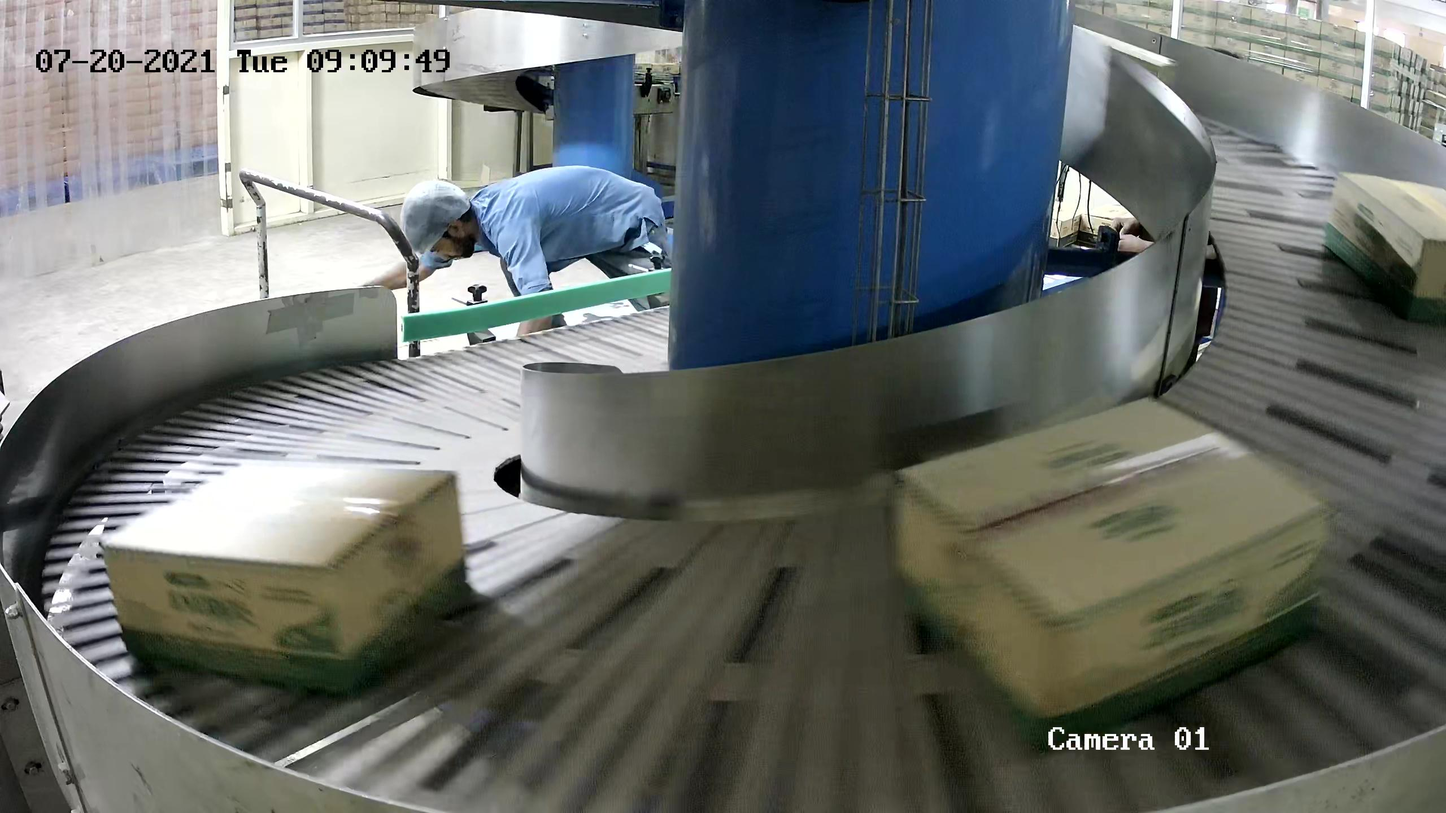Box: (885, 389, 1337, 759), (102, 455, 471, 696), (1321, 169, 1446, 327)
